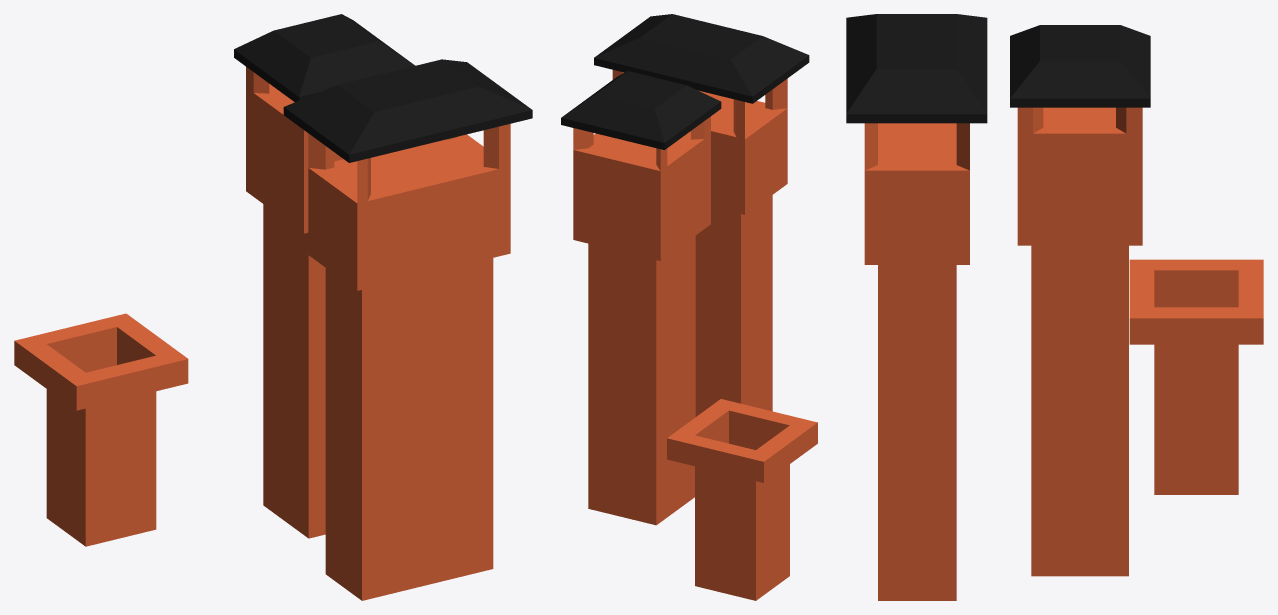
Rendered from 3_Chamines.fbx.
3 views of the same model, side by side, from view 1: azimuth 30°, elevation 25°; view 2: azimuth 150°, elevation 25°; view 3: azimuth 270°, elevation 25° (orthographic). The views are drawn at different scales.
Visible parts, largest first — view 1: Cube.049, Cube.048, Cube.069, Cube.067, Cube.068; view 2: Cube.069, Cube.049, Cube.048, Cube.067, Cube.068; view 3: Cube.069, Cube.049, Cube.048, Cube.067, Cube.068.
Boxes of the visible parts, x1,y1,x2,y2 form: Cube.049: (308, 124, 510, 600); Cube.048: (14, 313, 188, 546); Cube.069: (246, 67, 343, 538); Cube.067: (283, 59, 532, 162); Cube.068: (234, 14, 415, 101); Cube.069: (573, 116, 710, 525); Cube.049: (612, 70, 787, 416); Cube.048: (667, 399, 817, 600); Cube.067: (594, 14, 809, 103); Cube.068: (561, 71, 721, 149); Cube.069: (1017, 107, 1142, 576); Cube.049: (864, 123, 969, 600); Cube.048: (1129, 259, 1263, 494); Cube.067: (846, 14, 987, 123); Cube.068: (1010, 25, 1150, 107).
Size of the model in its own units: 151 by 218 by 156.
